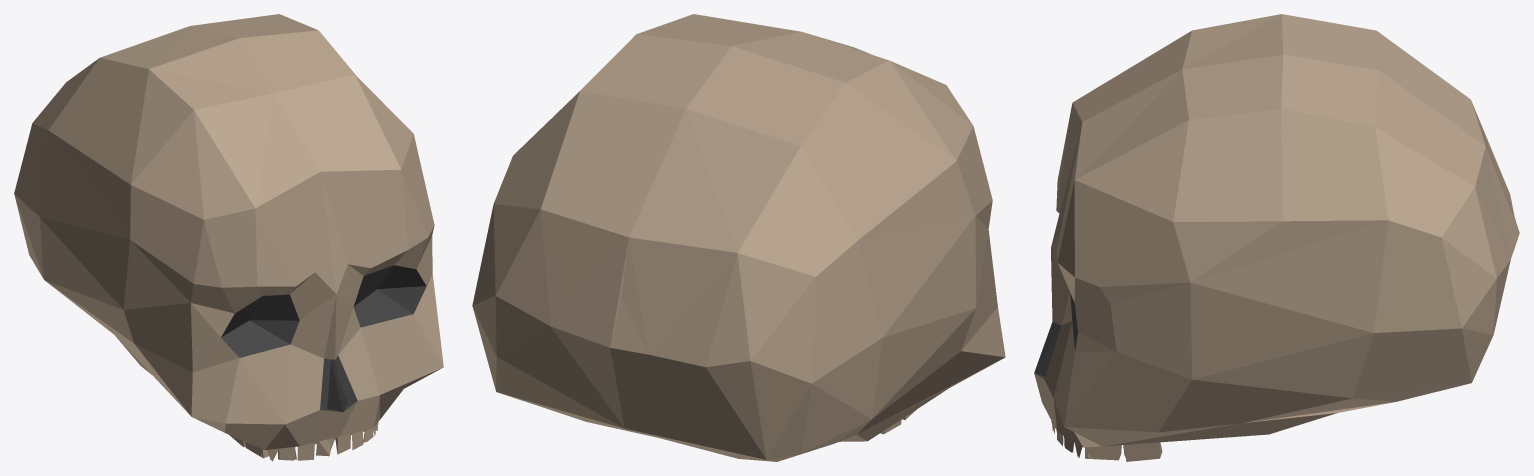
The model's file is Skull.fbx.
3 views of the same model, side by side, from view 1: azimuth 30°, elevation 25°; view 2: azimuth 150°, elevation 25°; view 3: azimuth 270°, elevation 25° (orthographic). The views are drawn at different scales.
Visible parts, largest first — view 1: Cube; view 2: Cube; view 3: Cube.
Boxes of the visible parts, box(x1,y1,x2,y2) form: Cube: box(14, 14, 443, 461); Cube: box(472, 14, 1005, 461); Cube: box(1034, 14, 1519, 461).
Size of the model in its own units: 49.62 by 52.91 by 61.19.
